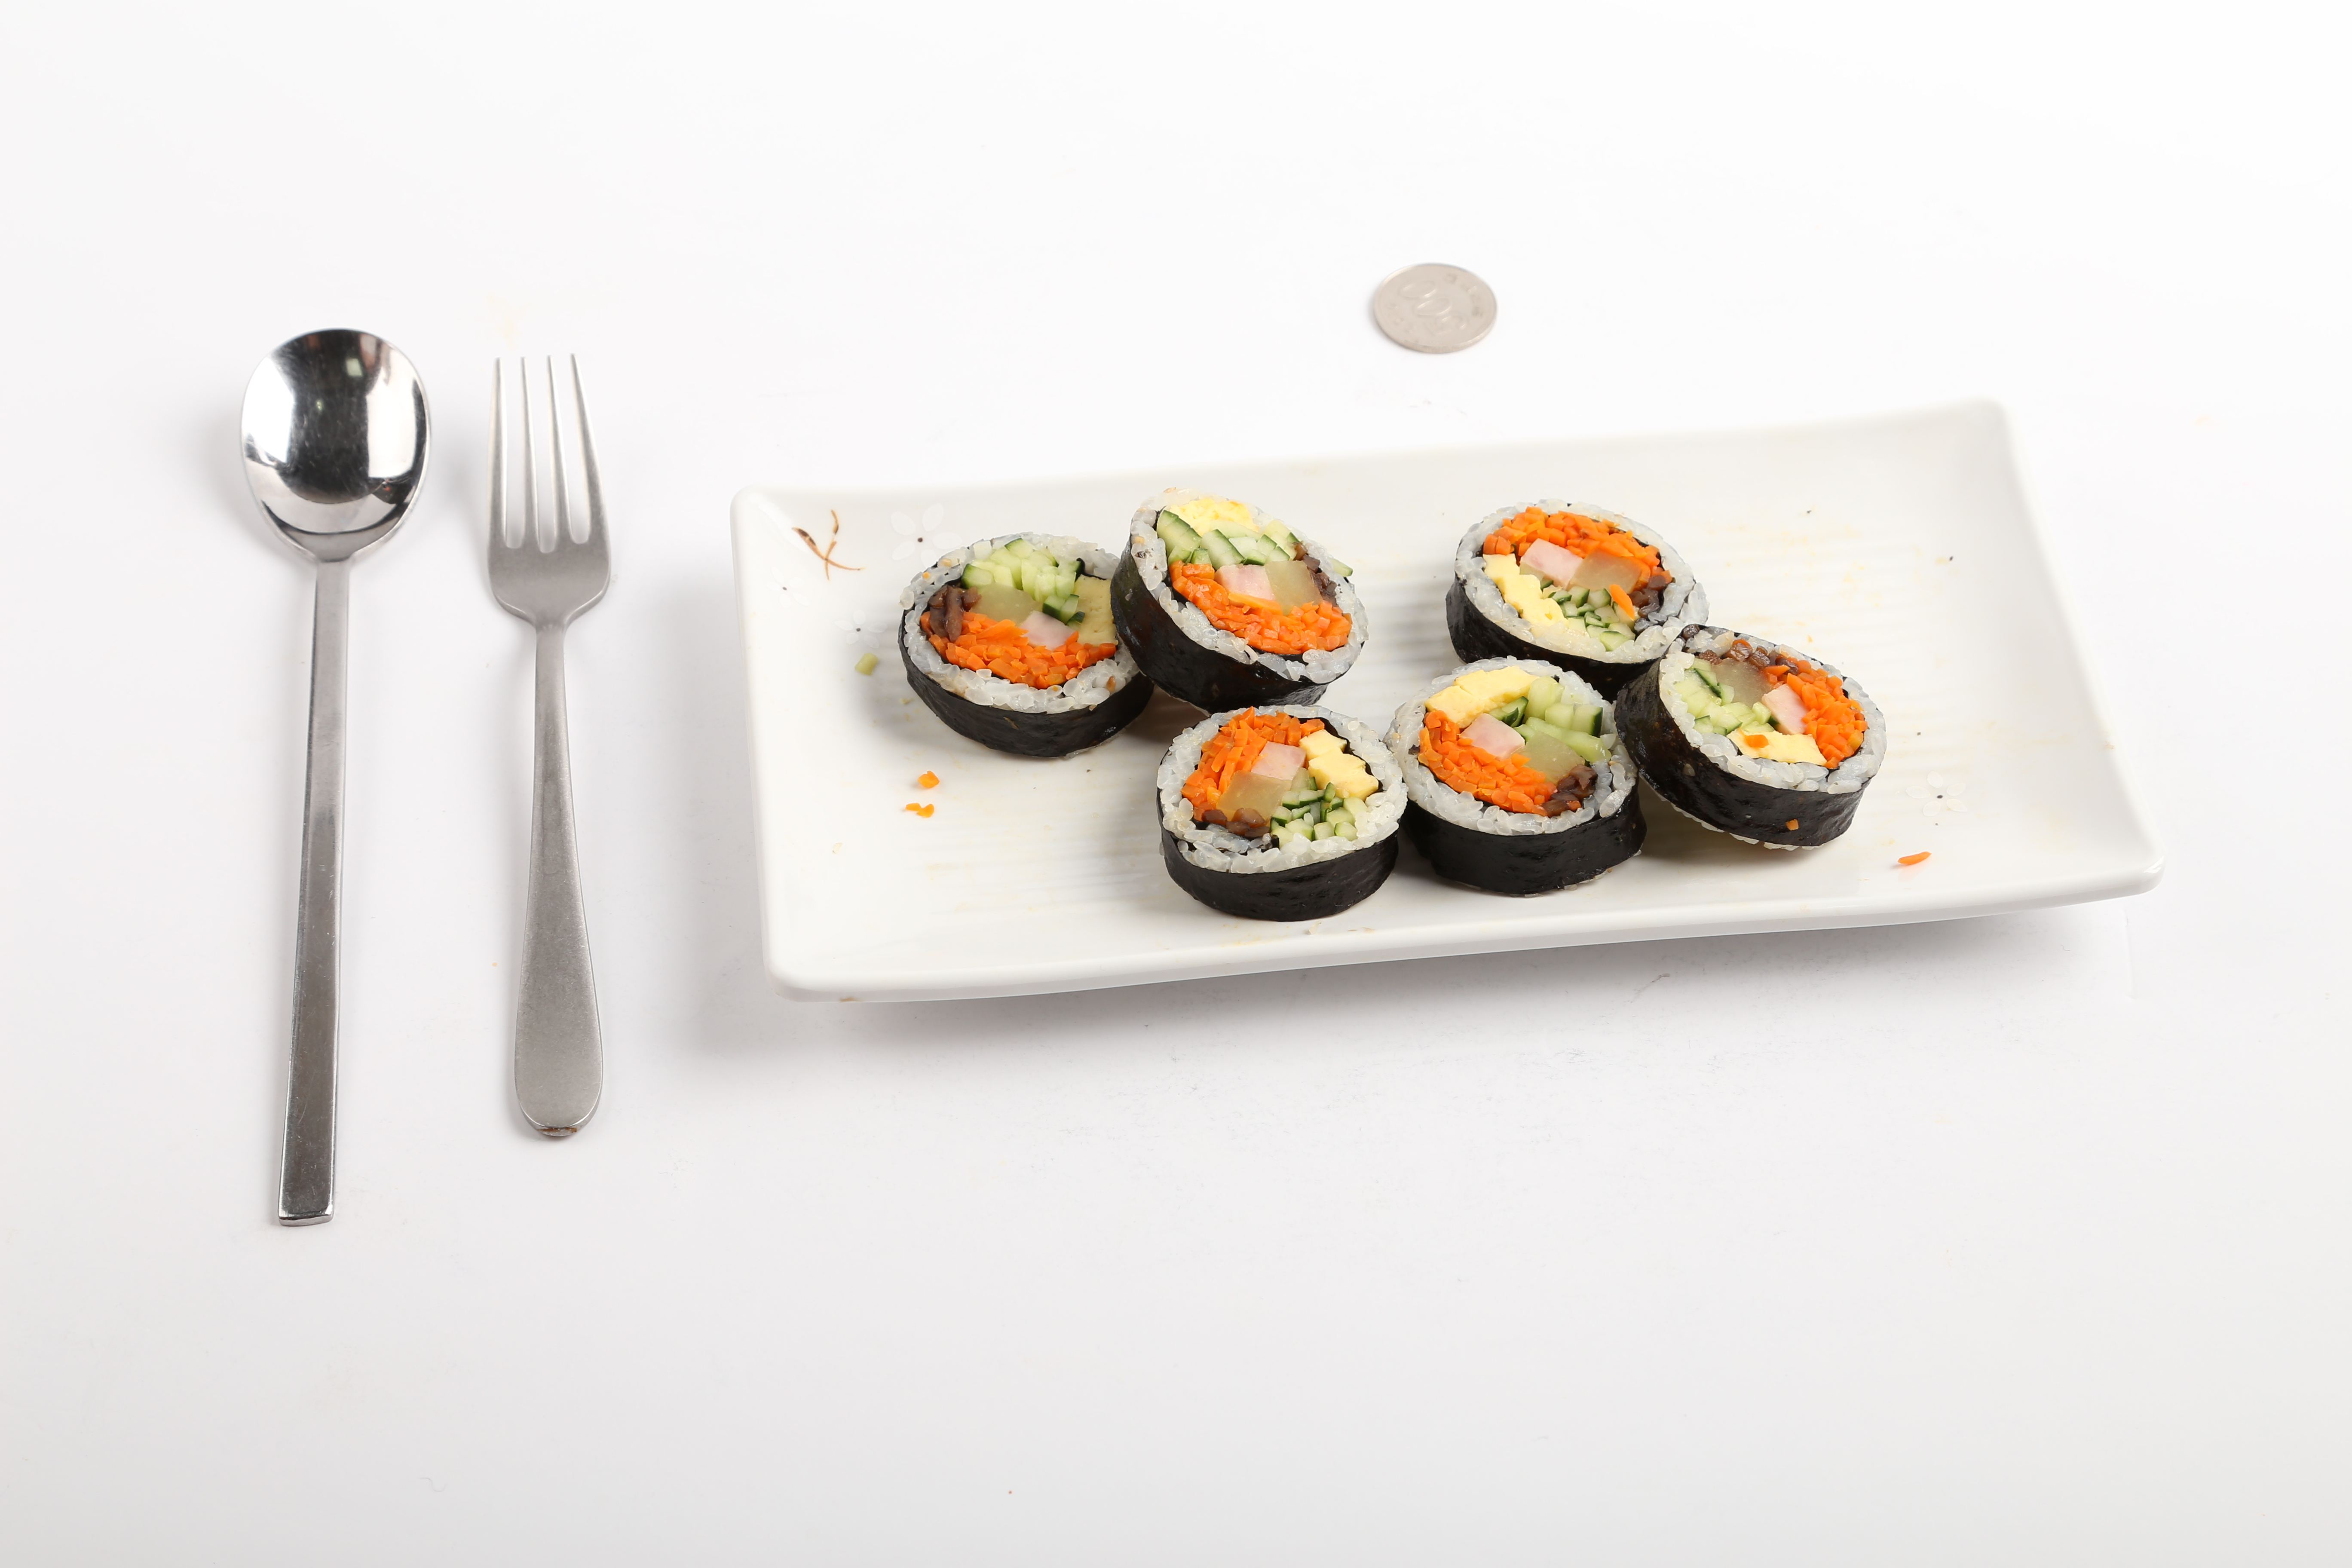dish: (726, 397, 2170, 1008)
ref_coin: (1363, 254, 1501, 353)
ref_fork: (479, 350, 612, 682)
ref_spoon: (233, 322, 430, 668)
김밥: (885, 486, 1895, 924)
